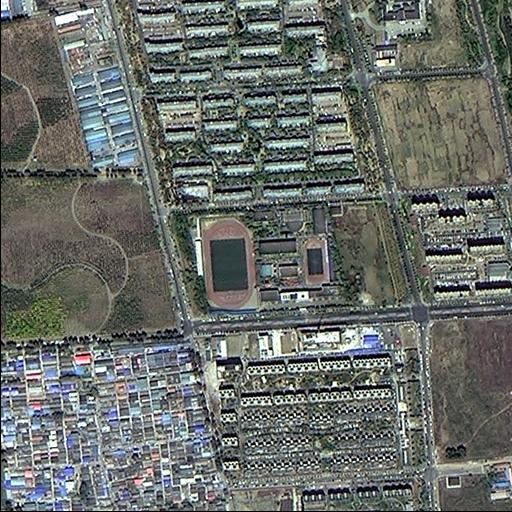school: (168, 203, 345, 313)
